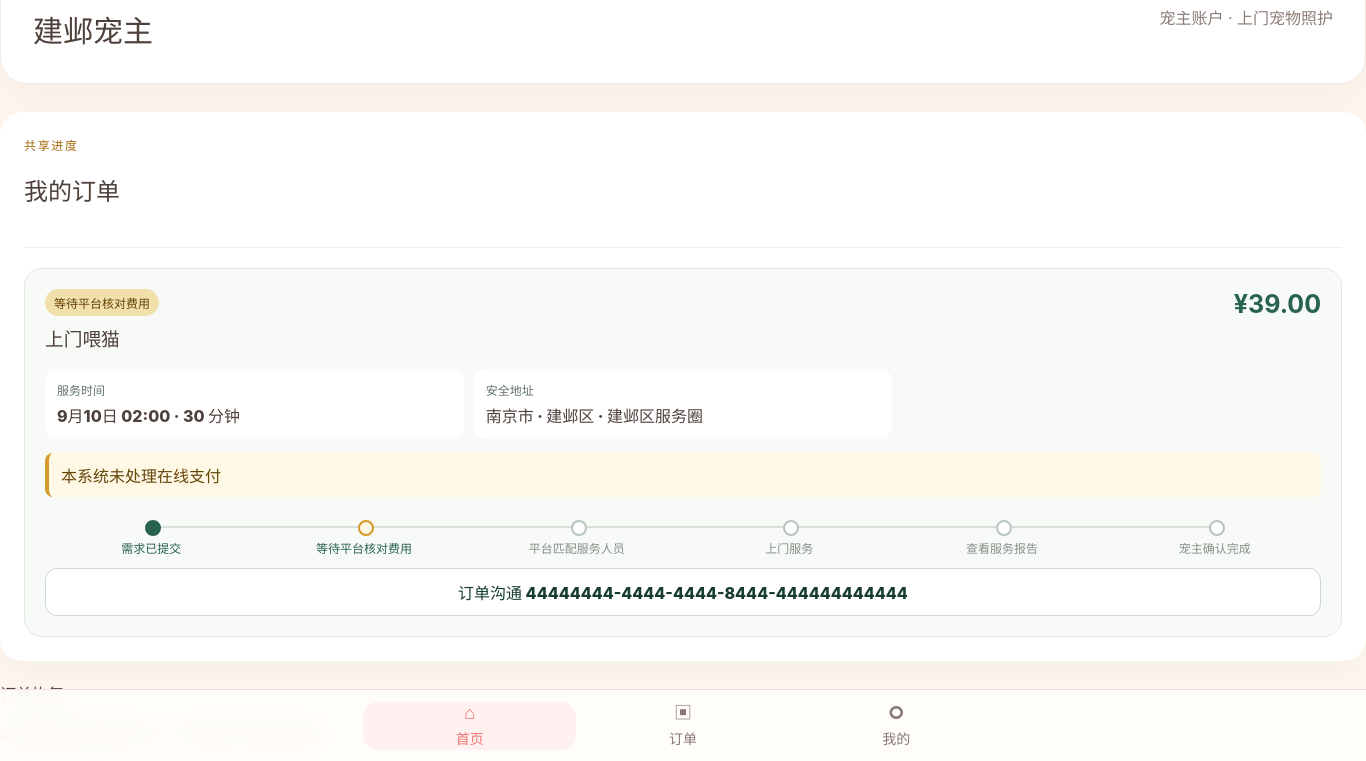
Test: OwnerPilotWorkspace › opens a single authorized order conversation only after its explicit control is selected
(page scrolled)
Click the button "订单沟通 44444444-4444-4444-8444-444444444444" at (683, 592), box [45, 568, 1321, 616]
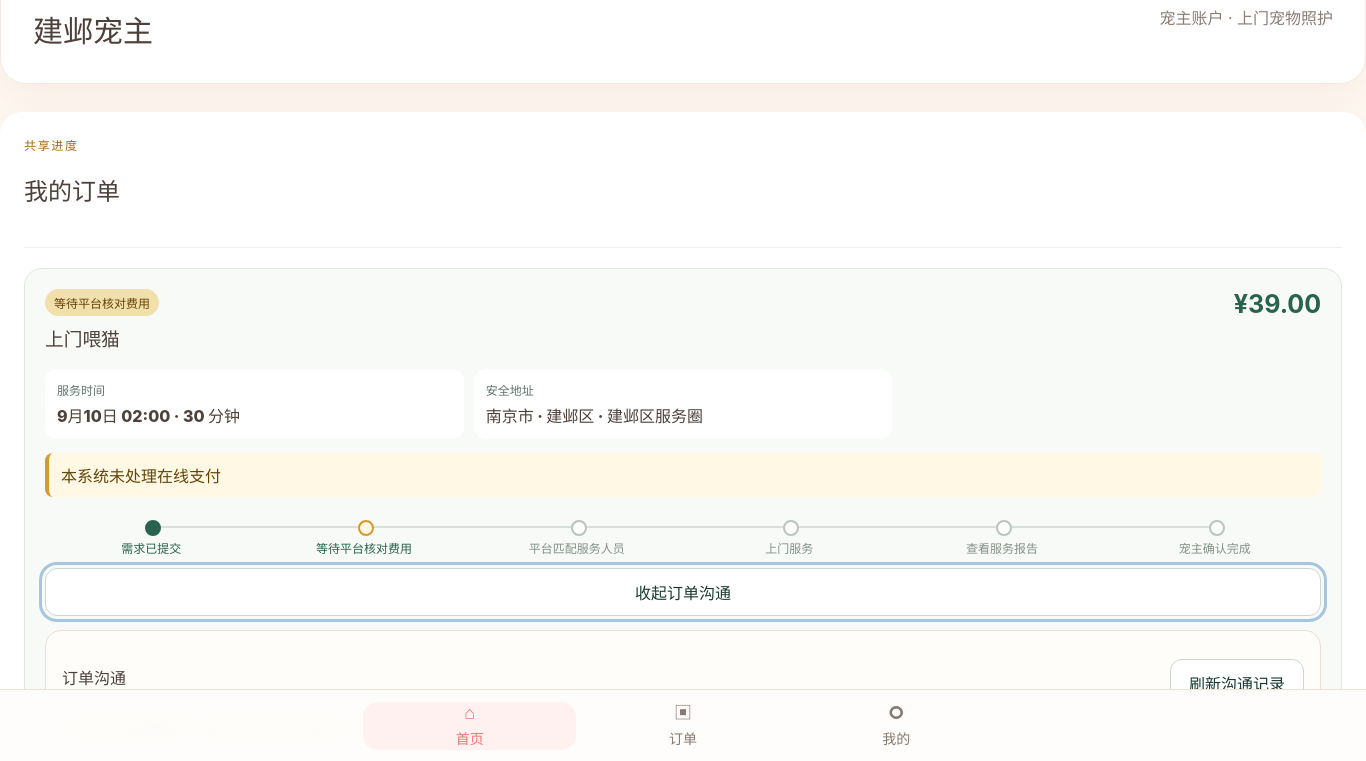
Result: the heading "订单沟通" is shown at [62, 665, 126, 689]
